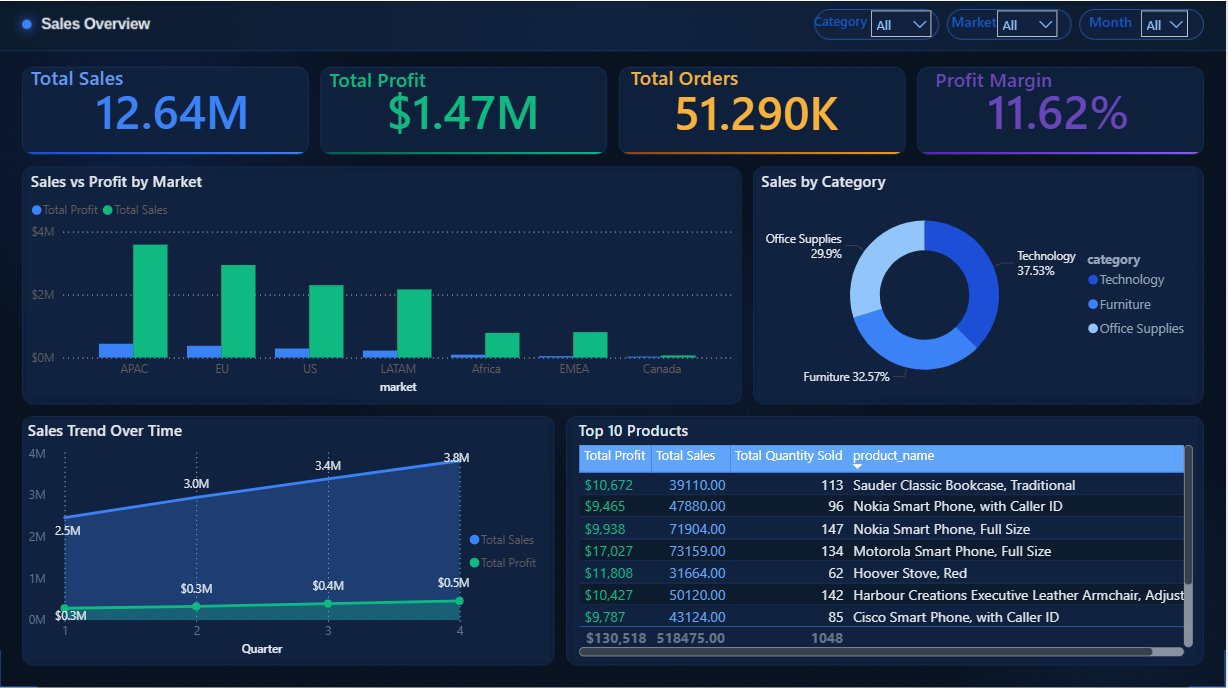

Layout of this report page (visuals, bound fields, positions):
{"tool":"powerbi","page":{"name":"overview","canvas":[1280,720],"ordinal":0},"visuals":[{"type":"cardVisual","fields":{"Data":["Measure Table.Total Sales"]},"box":[51.6,67.2,259.5,89.1],"z":0},{"type":"cardVisual","fields":{"Data":["Measure Table.Total Profit"]},"box":[339.2,67.2,289.2,89.1],"z":1000},{"type":"cardVisual","fields":{"Data":["Measure Table.Total Orders"]},"box":[653.3,68.8,272,89.1],"z":2000},{"type":"cardVisual","fields":{"Data":["Measure Table.Profit Margin %"]},"box":[981.6,67.2,245.4,89.1],"z":3000},{"type":"textbox","title":"Total Sales","box":[28.1,65.6,126.6,35.9],"z":4000},{"type":"textbox","title":"Total Profit","box":[339.2,67.2,126.6,35.9],"z":5000},{"type":"textbox","title":"Total Orders","box":[653.3,65.6,126.6,35.9],"z":6000},{"type":"textbox","title":"Profit Margin ","box":[970.6,67.2,142.2,35.9],"z":7000},{"type":"slicer","fields":{"Values":["DWH_Date.Month"]},"box":[1180.1,0,68.8,46.9],"z":8000},{"type":"textbox","title":"Month","box":[1123.8,10.9,68.8,18.8],"z":9000},{"type":"textbox","title":"Market","box":[981.6,10.9,68.8,18.8],"z":10000},{"type":"slicer","fields":{"Values":["DWH_Category.category"]},"box":[898.7,0,82.8,53.1],"z":11000},{"type":"textbox","title":"Category","box":[842.5,10.9,68.8,18.8],"z":12000},{"type":"slicer","fields":{"Values":["DWH_Market.market"]},"box":[1030,0,82.8,53.1],"z":13000},{"type":"clusteredColumnChart","title":"Sales vs Profit by Market","fields":{"Y":["Measure Table.Total Profit","Measure Table.Total Sales"],"Category":["DWH_Market.market"]},"box":[28.1,176.6,740.9,237.6],"z":14000},{"type":"donutChart","title":"Sales by Category","fields":{"Category":["DWH_Category.category"],"Y":["Measure Table.Total Sales"]},"box":[789.3,176.6,459.5,237.6],"z":15000},{"type":"lineChart","title":"Sales Trend Over Time","fields":{"Category":["DWH_Date.Quarter"],"Y":["Measure Table.Total Sales","Measure Table.Total Profit"]},"box":[25,436.1,548.6,251.6],"z":16000},{"type":"tableEx","title":"Top 10 Products","fields":{"Values":["Measure Table.Total Profit","Measure Table.Total Sales","Measure Table.Total Quantity Sold","DWH_Product.product_name"]},"box":[598.6,436.1,650.2,251.6],"z":17000}]}

Visuals, with their boxes in screenshot pixels (x1, y1, x2, y2), scaled from the page's 1280x720 canvas onto the 1228x688 screenshot:
cardVisual - Measure Table.Total Sales: l=50, t=64, r=298, b=149
cardVisual - Measure Table.Total Profit: l=325, t=64, r=603, b=149
cardVisual - Measure Table.Total Orders: l=627, t=66, r=888, b=151
cardVisual - Measure Table.Profit Margin %: l=942, t=64, r=1177, b=149
"Total Sales" textbox: l=27, t=63, r=148, b=97
"Total Profit" textbox: l=325, t=64, r=447, b=99
"Total Orders" textbox: l=627, t=63, r=748, b=97
"Profit Margin " textbox: l=931, t=64, r=1068, b=99
slicer - DWH_Date.Month: l=1132, t=0, r=1198, b=45
"Month" textbox: l=1078, t=10, r=1144, b=28
"Market" textbox: l=942, t=10, r=1008, b=28
slicer - DWH_Category.category: l=862, t=0, r=942, b=51
"Category" textbox: l=808, t=10, r=874, b=28
slicer - DWH_Market.market: l=988, t=0, r=1068, b=51
"Sales vs Profit by Market" clusteredColumnChart: l=27, t=169, r=738, b=396
"Sales by Category" donutChart: l=757, t=169, r=1198, b=396
"Sales Trend Over Time" lineChart: l=24, t=417, r=550, b=657
"Top 10 Products" tableEx: l=574, t=417, r=1198, b=657
